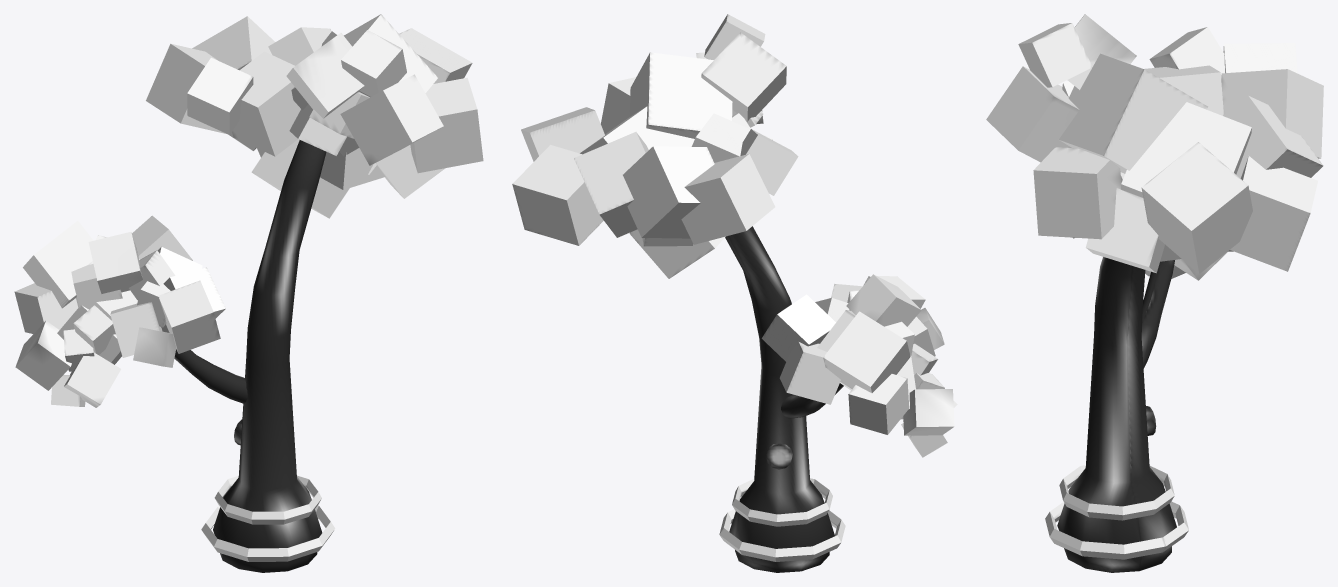
Rendered from LIGHT_TREE2.FBX.
3 views of the same model, side by side, from view 1: azimuth 30°, elevation 25°; view 2: azimuth 150°, elevation 25°; view 3: azimuth 270°, elevation 25° (orthographic). The views are drawn at different scales.
Visible parts, largest first — view 1: LIGHT_TREE2; view 2: LIGHT_TREE2; view 3: LIGHT_TREE2.
Part boxes in pixels (box(x1,y1,x2,y2)): LIGHT_TREE2: box(14, 14, 483, 572); LIGHT_TREE2: box(512, 14, 957, 572); LIGHT_TREE2: box(986, 14, 1323, 572).
Size of the model in its own units: 378 by 412 by 222.
